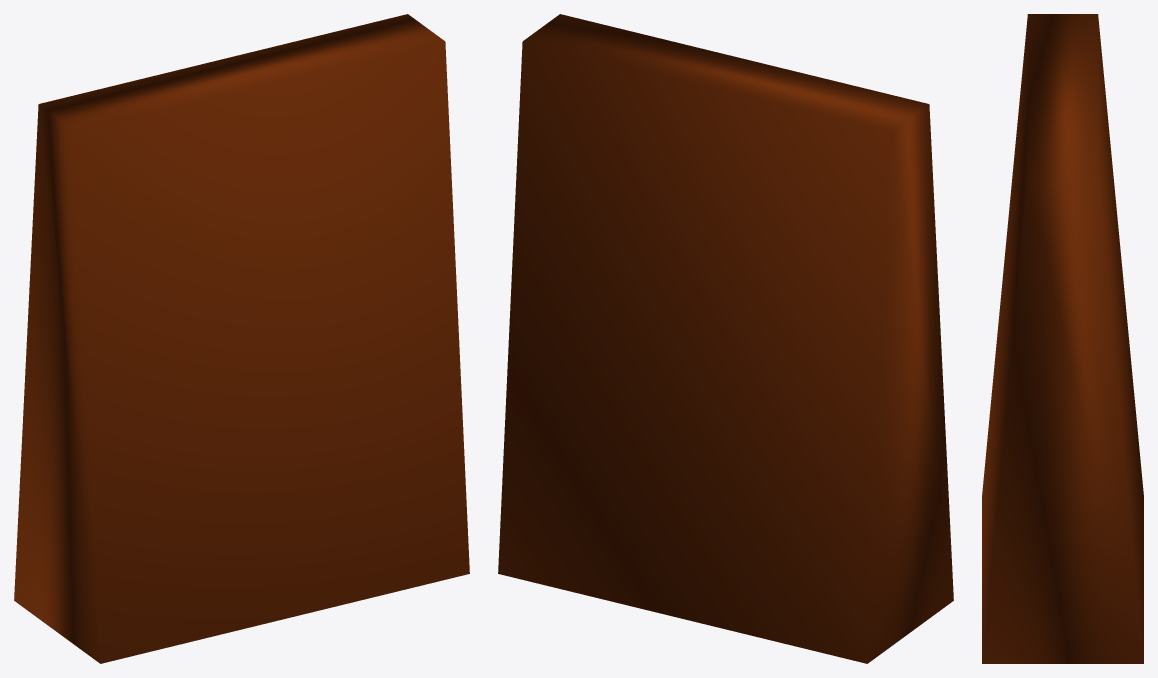
Rendered from ABONO sin etiqueta.fbx.
3 renders of one model, left to right at view 1: azimuth 30°, elevation 25°; view 2: azimuth 150°, elevation 25°; view 3: azimuth 270°, elevation 25°, orthographic. The views are drawn at different scales.
Visible parts, largest first — view 1: Cube; view 2: Cube; view 3: Cube.
Boxes of the visible parts, x1,y1,x2,y2 form: Cube: (14,14,469,663); Cube: (498,14,953,663); Cube: (982,14,1143,663).
Size of the model in its own units: 501 by 666 by 203.
